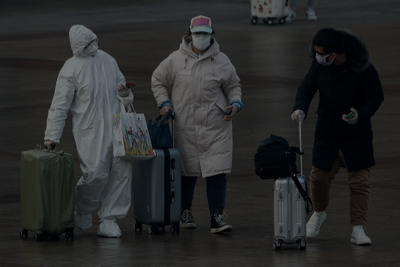with_mask: (192, 31, 212, 51), (315, 48, 332, 68), (84, 39, 100, 56)
